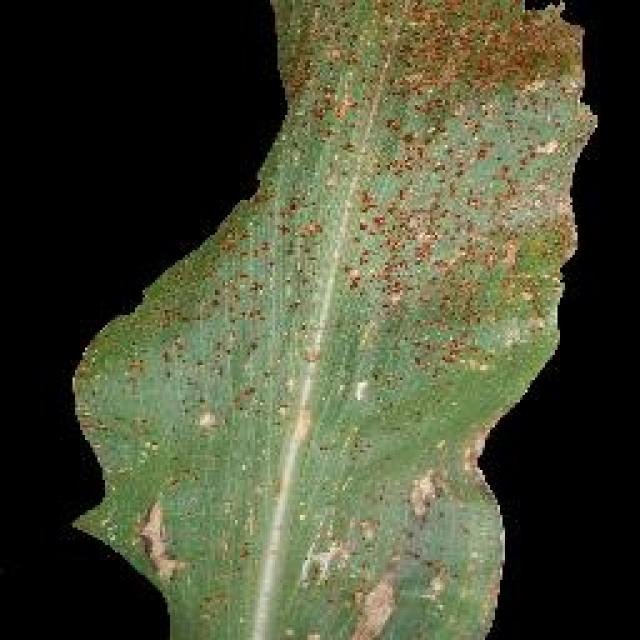Corn Common Rust: (217, 16, 615, 582)
